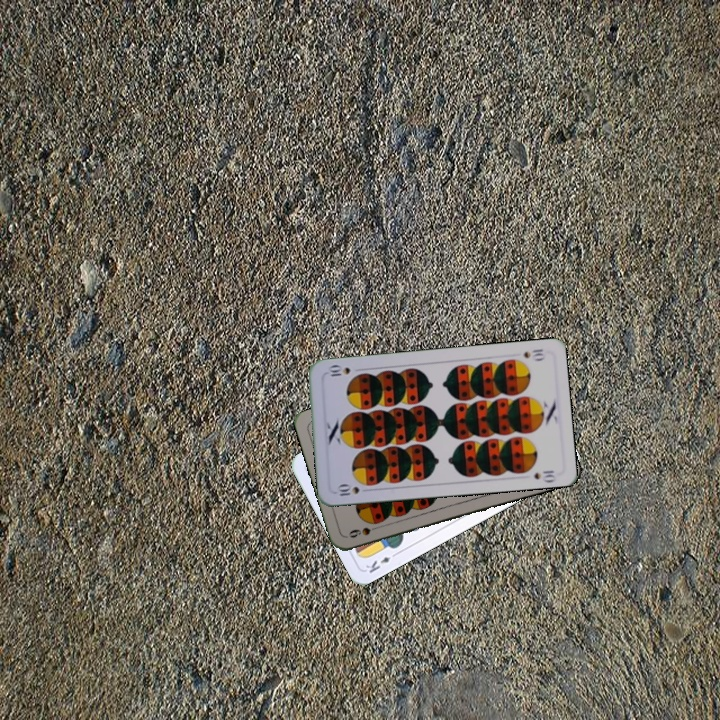EK: (362, 548, 400, 576)
S10: (333, 481, 362, 499), (519, 345, 547, 363)
S9: (345, 521, 384, 541)
